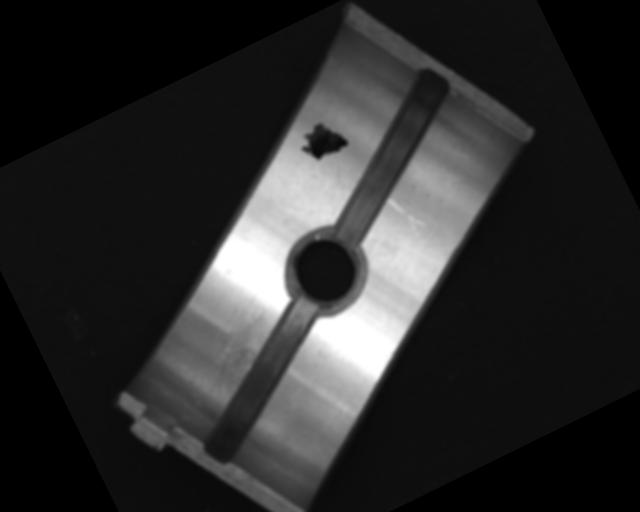blot: (293, 115, 350, 166)
gap: (291, 65, 492, 250), (162, 296, 359, 470)
hole: (272, 218, 379, 327)
nick: (384, 186, 429, 243)
scratch: (183, 306, 292, 405)
